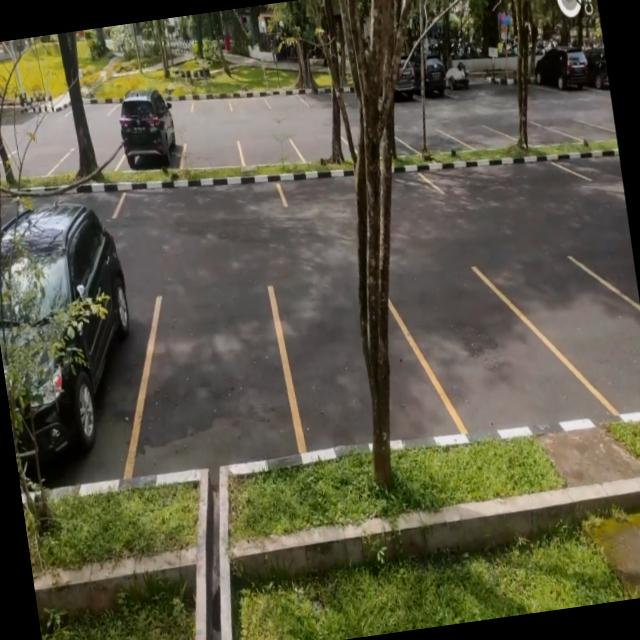car: (0, 205, 159, 486), (115, 96, 187, 174)
free: (123, 286, 298, 480), (273, 272, 432, 460), (406, 263, 564, 451), (537, 253, 640, 427), (111, 170, 288, 234), (423, 149, 578, 208), (278, 169, 360, 215), (181, 134, 246, 174), (238, 133, 301, 170), (492, 114, 554, 150), (401, 124, 454, 158), (558, 113, 614, 145), (518, 119, 570, 149), (455, 120, 502, 152), (264, 83, 308, 115), (190, 88, 233, 119), (229, 88, 270, 116)
